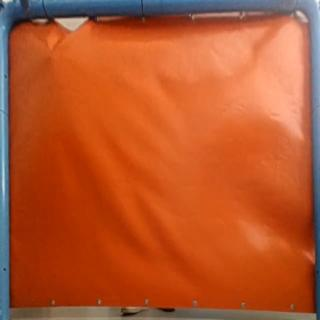Hit-hRxx: (44, 49, 58, 62)
